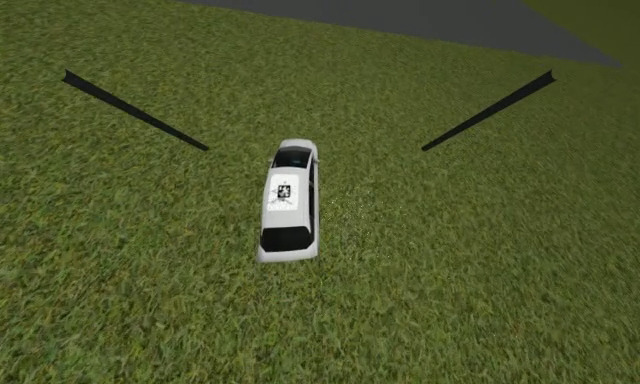Car: (259, 139, 321, 261)
Landing Pad: (268, 174, 300, 211)
